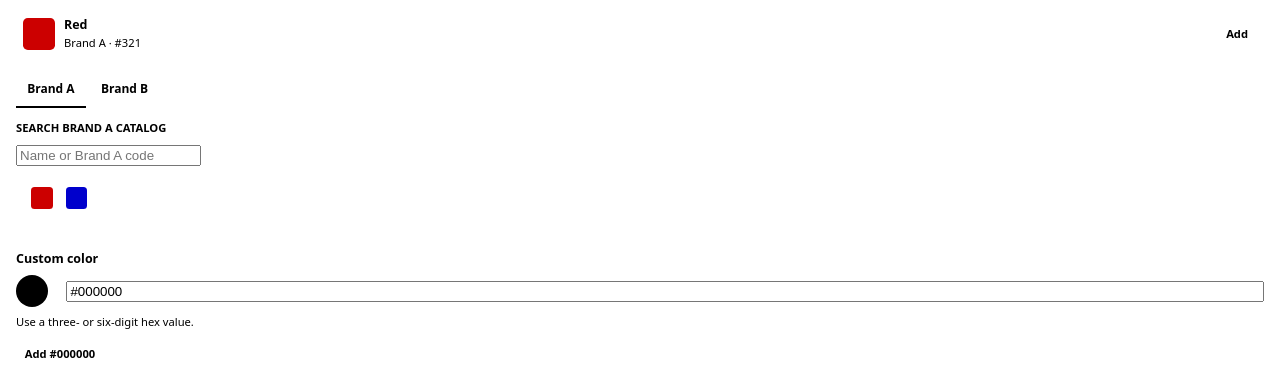
Test: ThreadColorPicker › switching tabs resets the query and selects the new catalog's first color
The width and height of the screenshot is (1280, 375).
Type "blue" into the field labelled "Search Brand A catalog". click: (108, 156)
box: [16,145,201,166]
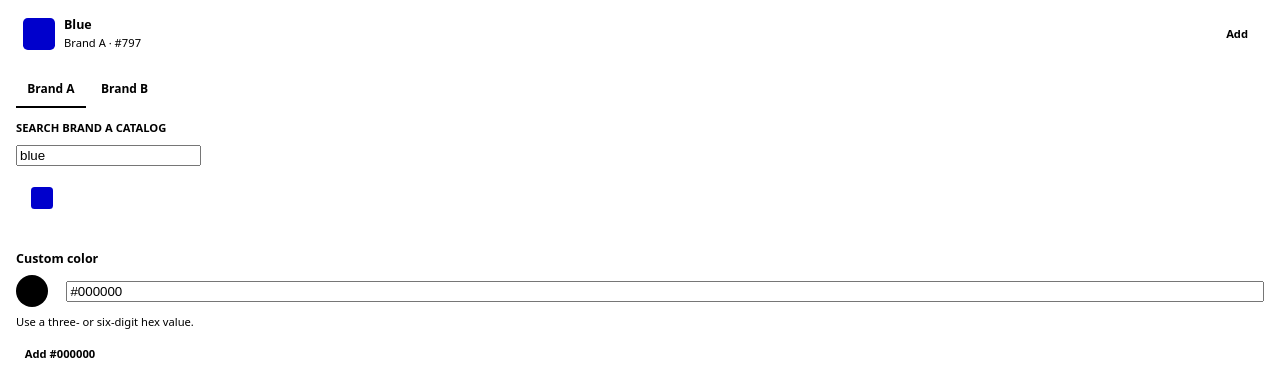
Click the tab "Brand B". click: (125, 90)
box: [90,71,159,108]
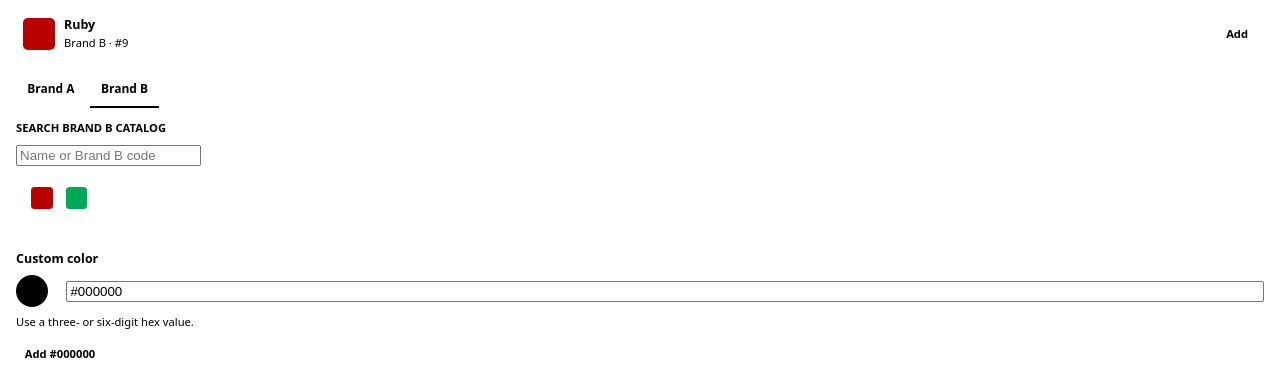
Result: the field labelled "Search Brand B catalog" is empty at [16,145,201,166]
Result: the text "Ruby" is shown at [64,16,95,33]
Result: the number of list items is 2 at [28,182,56,214]; [62,182,91,214]
